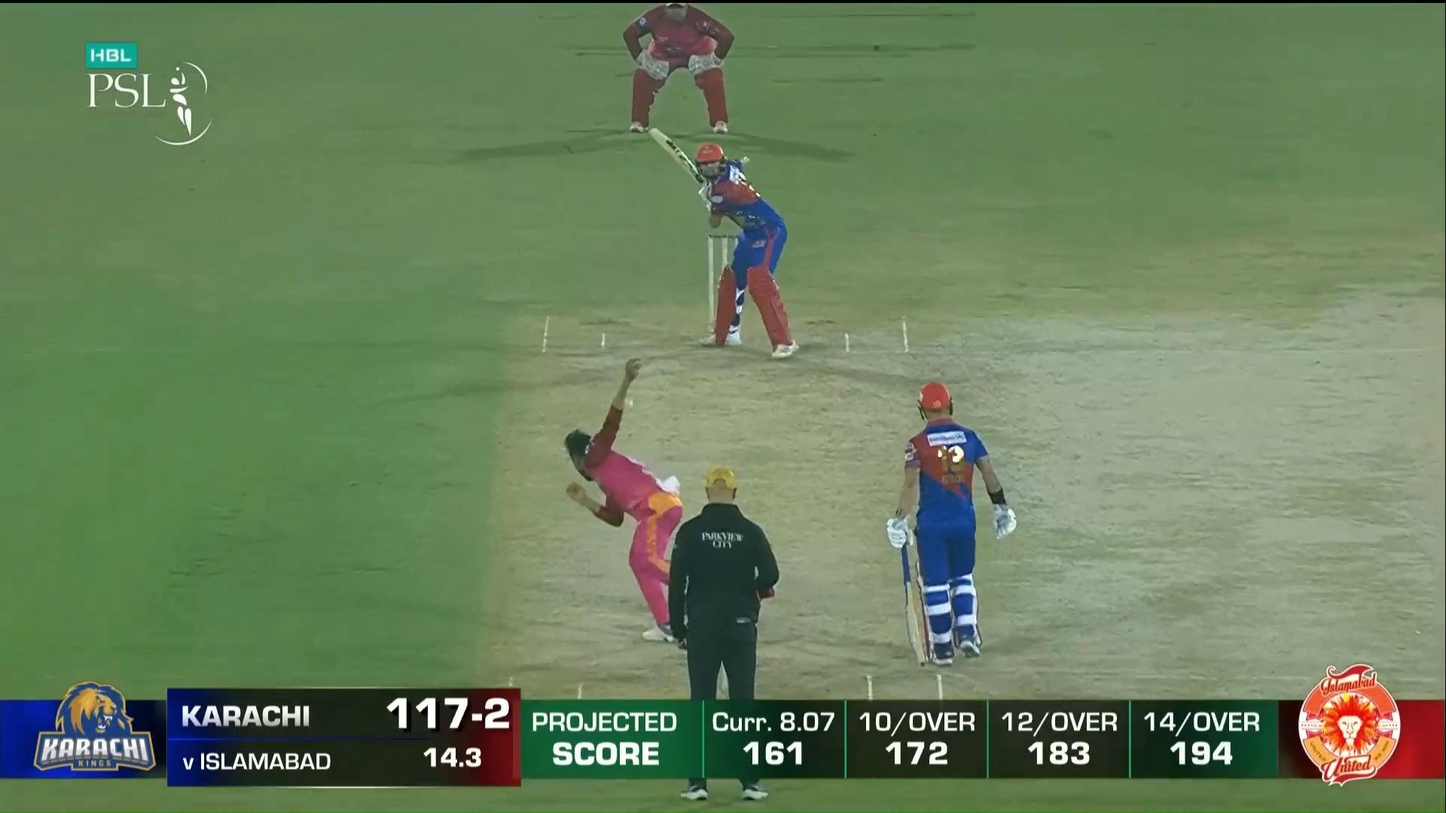batsman: (649, 126, 800, 361)
